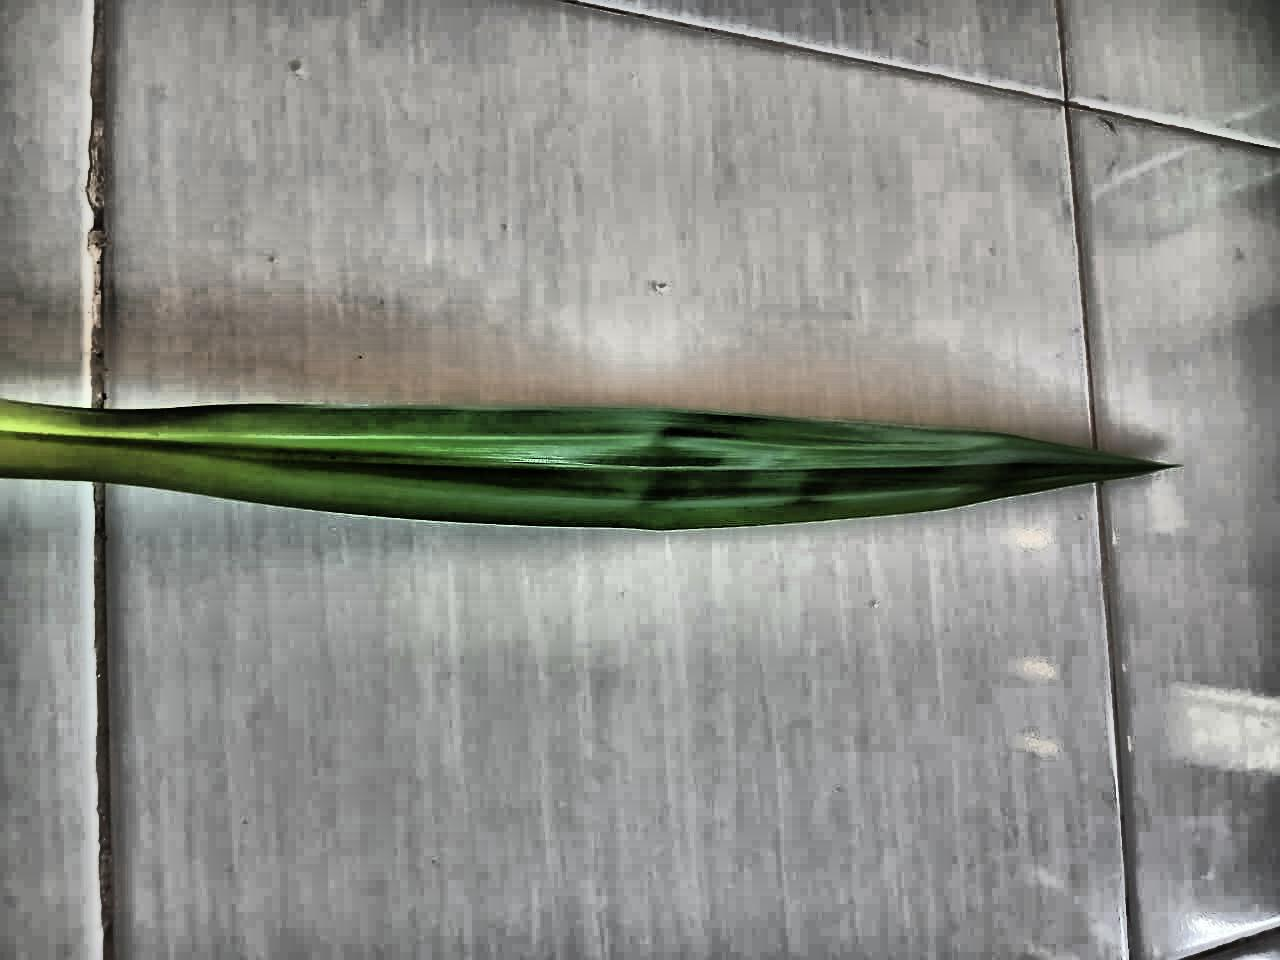daun pandan: (0, 400, 1168, 530)
